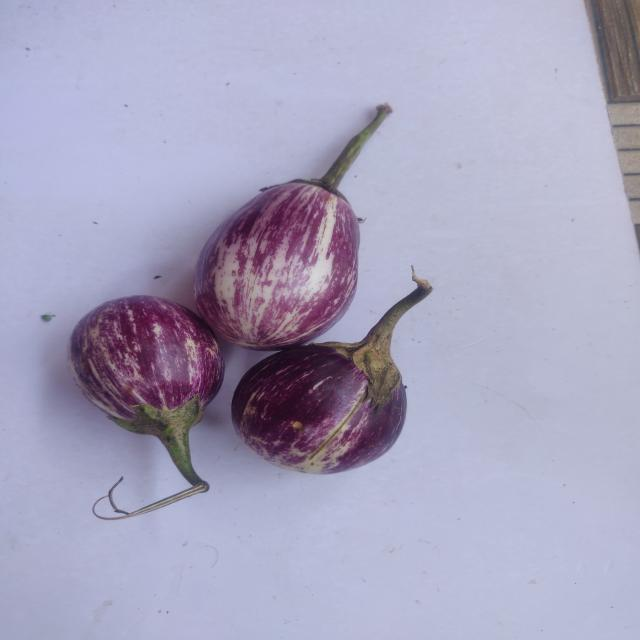Eggplant: (194, 103, 392, 351), (232, 273, 432, 474), (67, 296, 223, 520)
